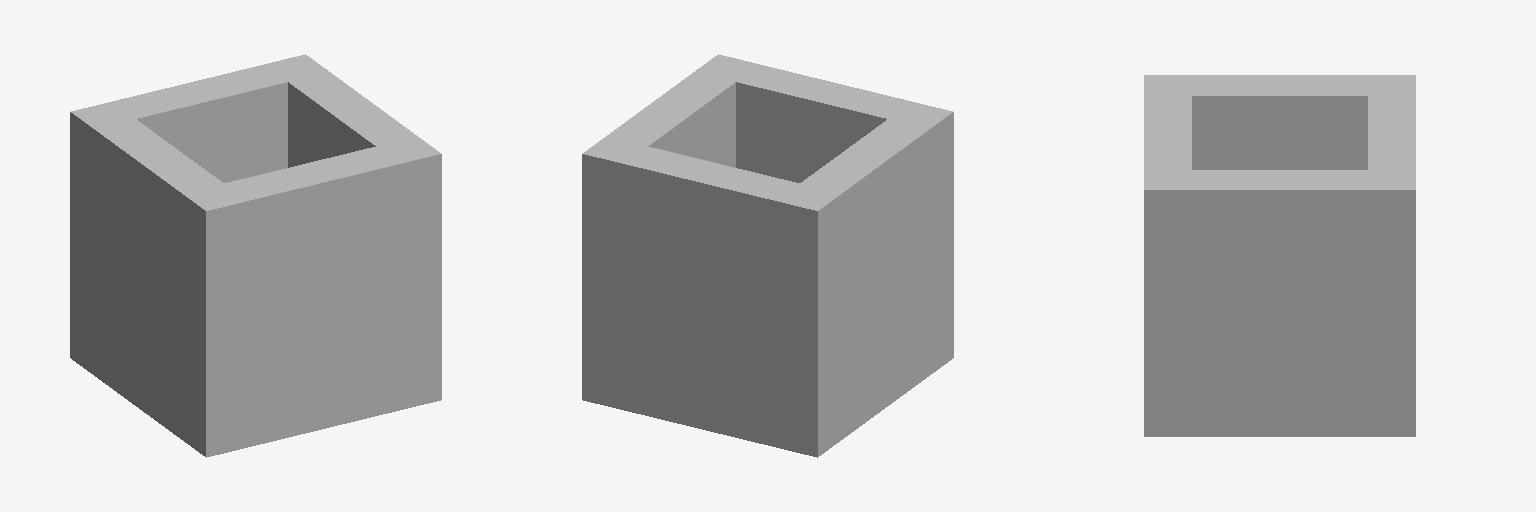
Rendered from Counter.obj.
3 renders of one model, left to right at view 1: azimuth 30°, elevation 25°; view 2: azimuth 150°, elevation 25°; view 3: azimuth 270°, elevation 25°, orthographic.
Parts seen in each view (by area): view 1: pCube1; view 2: pCube1; view 3: pCube1.
Part boxes in pixels (x1,y1,x2,y2): pCube1: (70,54,441,457); pCube1: (582,54,953,457); pCube1: (1144,75,1415,436).
Bounding box in the file's own units: 1.39 × 1.39 × 1.39.